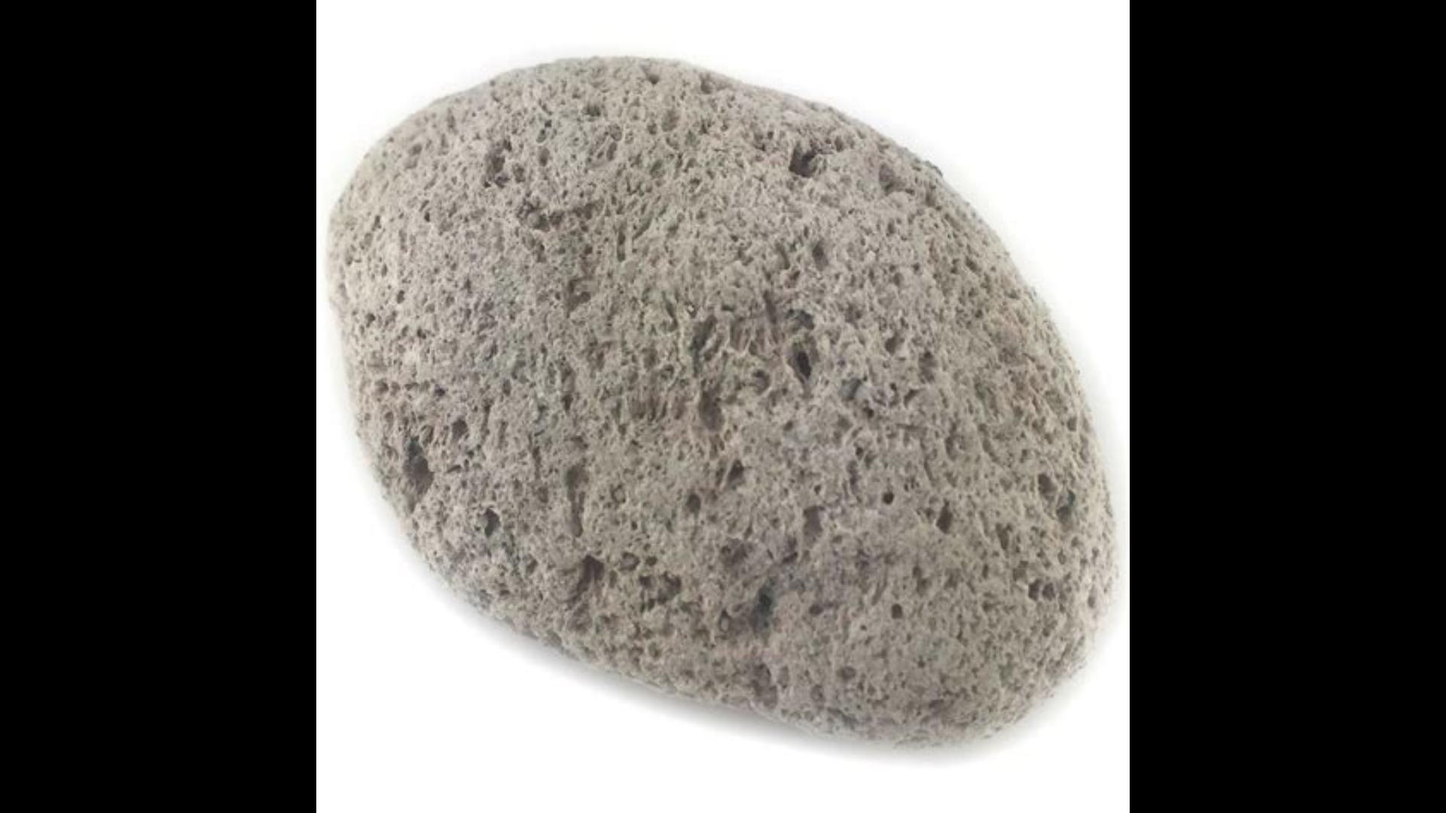rock: (330, 58, 1114, 738)
